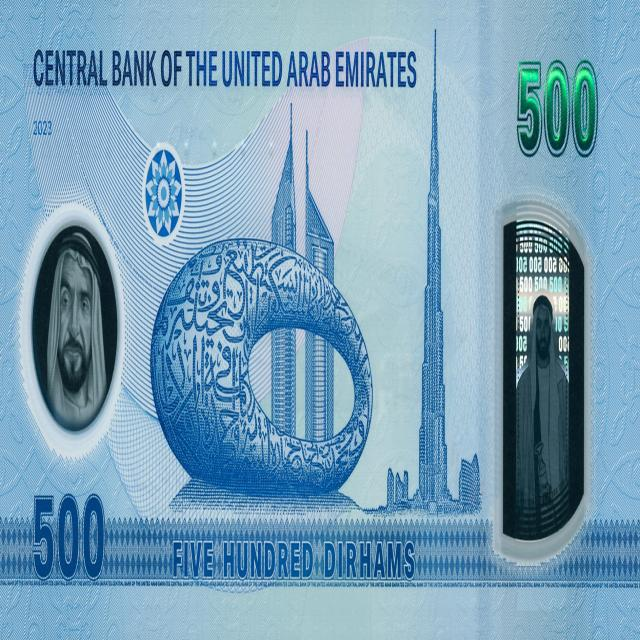500_AED: (2, 2, 639, 640)
